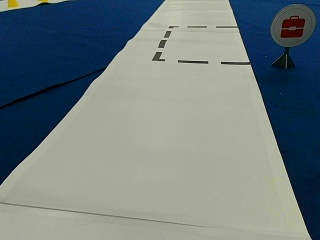company: (270, 4, 316, 45)
